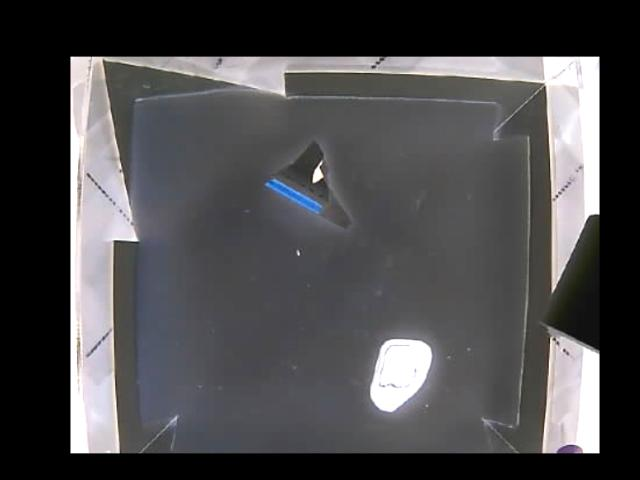China: (263, 140, 359, 228)
Pebble: (369, 336, 435, 414)
